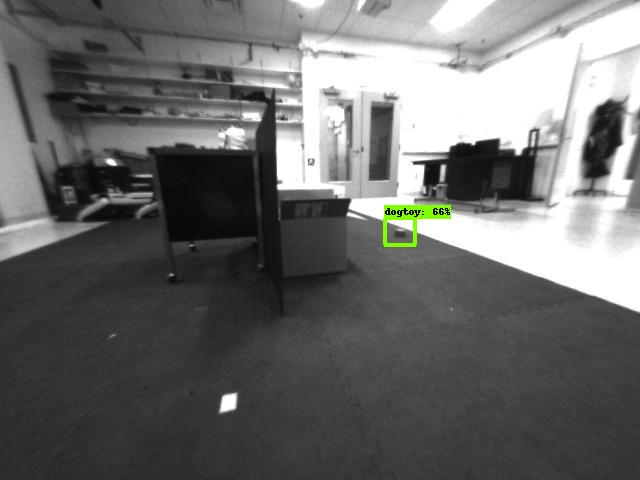dogtoy: (385, 222, 417, 243)
